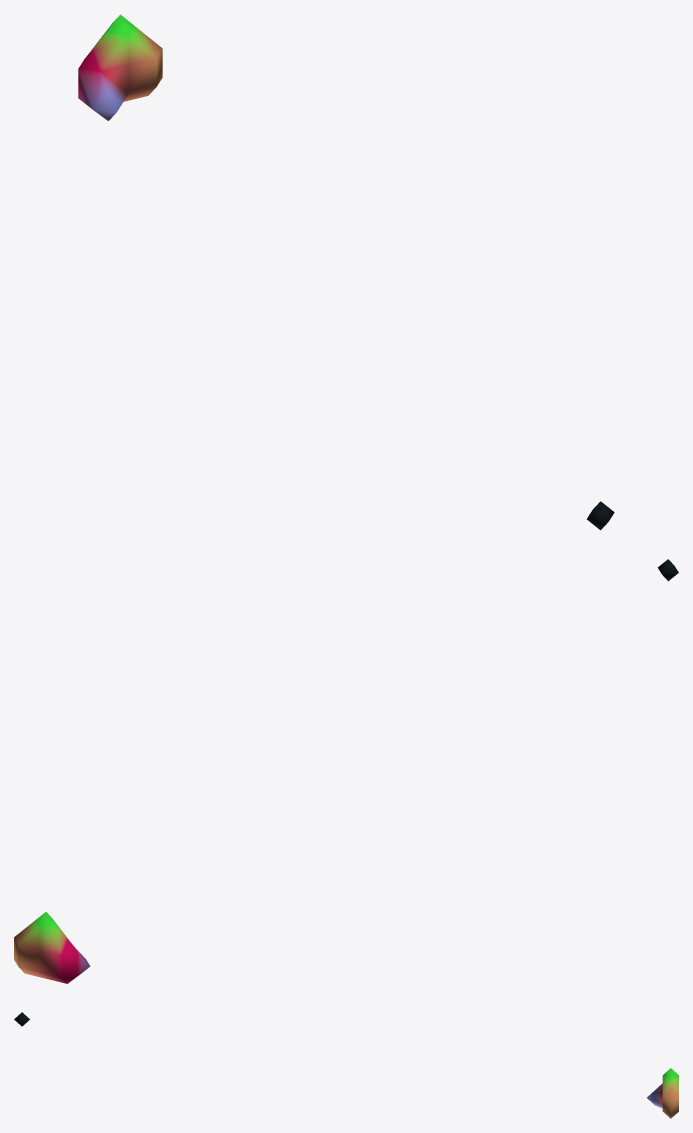
File: smooth-export.glb
The picture shows the model from 3 angles, top to bottom: view 1: azimuth 30°, elevation 25°; view 2: azimuth 150°, elevation 25°; view 3: azimuth 270°, elevation 25°; orthographic projection. The views are drawn at different scales.
Visible parts, largest first — view 1: Voxelith; view 2: Voxelith; view 3: Voxelith.
Part boxes in pixels (bbox=[...]): Voxelith: bbox=[78, 14, 614, 530]; Voxelith: bbox=[14, 559, 678, 983]; Voxelith: bbox=[14, 1012, 678, 1118].
Bounding box in the file's own units: 8 × 4 × 41.
